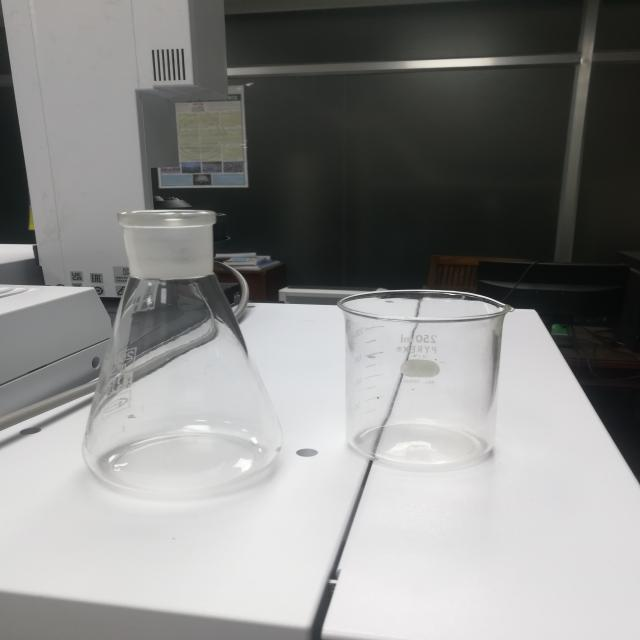Beaker: (323, 266, 540, 486)
Conical_Flask: (67, 187, 303, 523)
